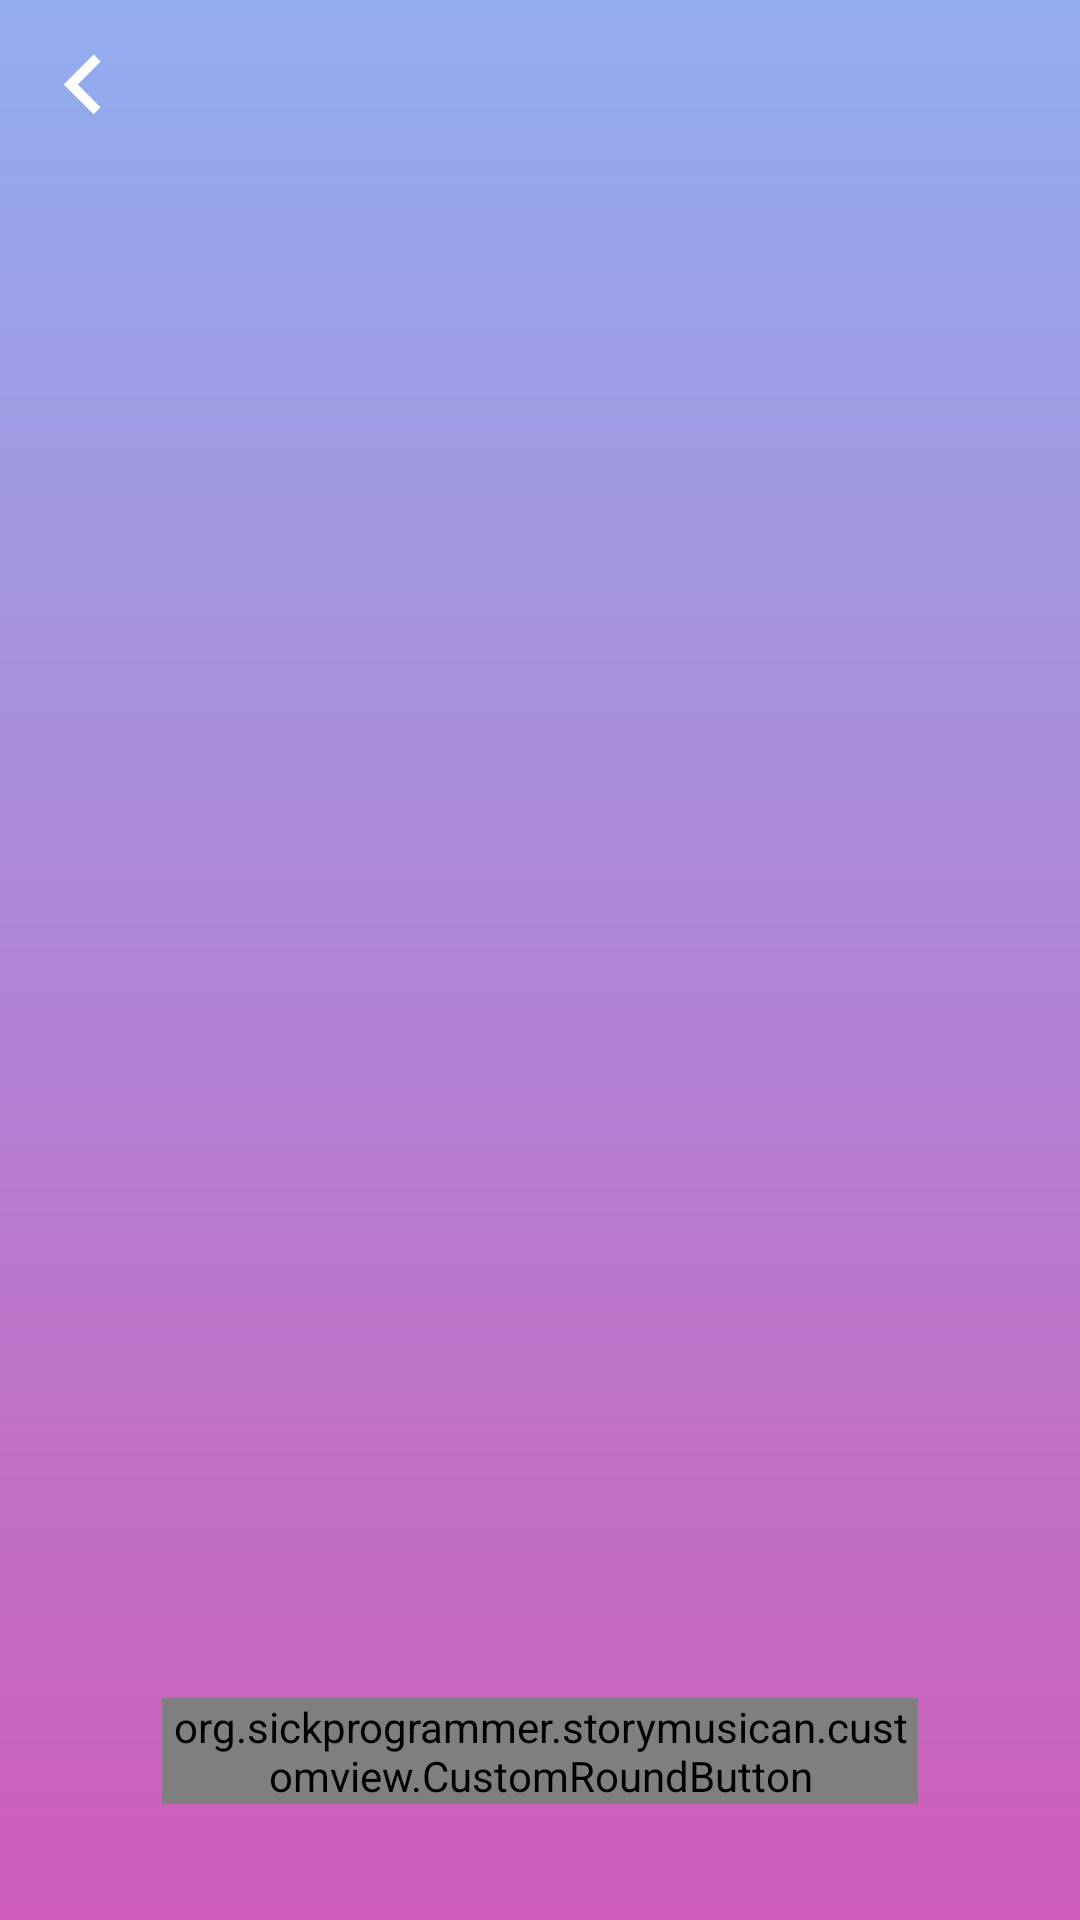

Icon click points for this 1080 x 1920 phone screenshot, format point (x, y):
all chevron left: point (82, 84)
